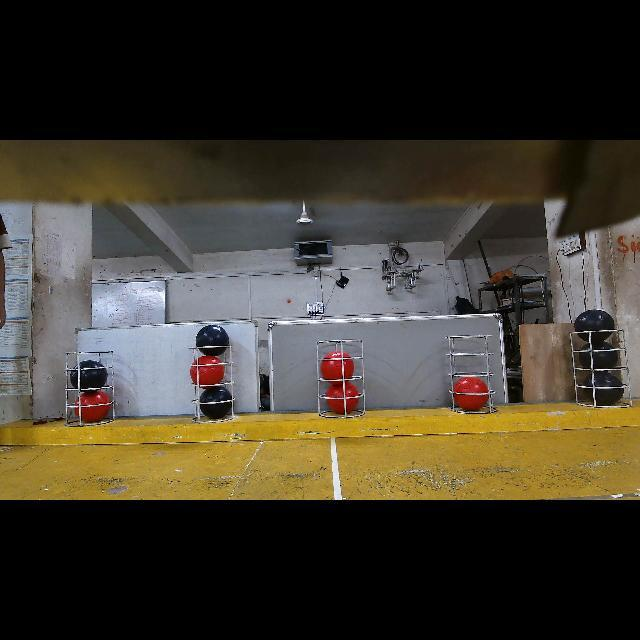P: (584, 371, 625, 406), (574, 310, 615, 343), (579, 339, 619, 370), (69, 360, 108, 389), (199, 386, 231, 419), (195, 325, 229, 356)
R: (74, 390, 111, 424), (454, 378, 489, 411), (326, 382, 359, 414), (190, 355, 225, 385), (321, 350, 355, 380)
S: (569, 330, 633, 410), (443, 334, 502, 416), (314, 338, 368, 418), (64, 349, 116, 427), (189, 344, 239, 424)
